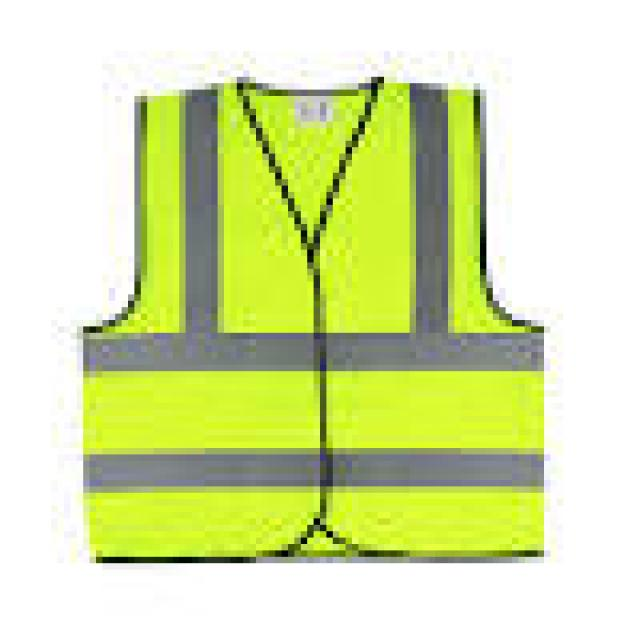Reflective-Jacket: (51, 64, 570, 570)
